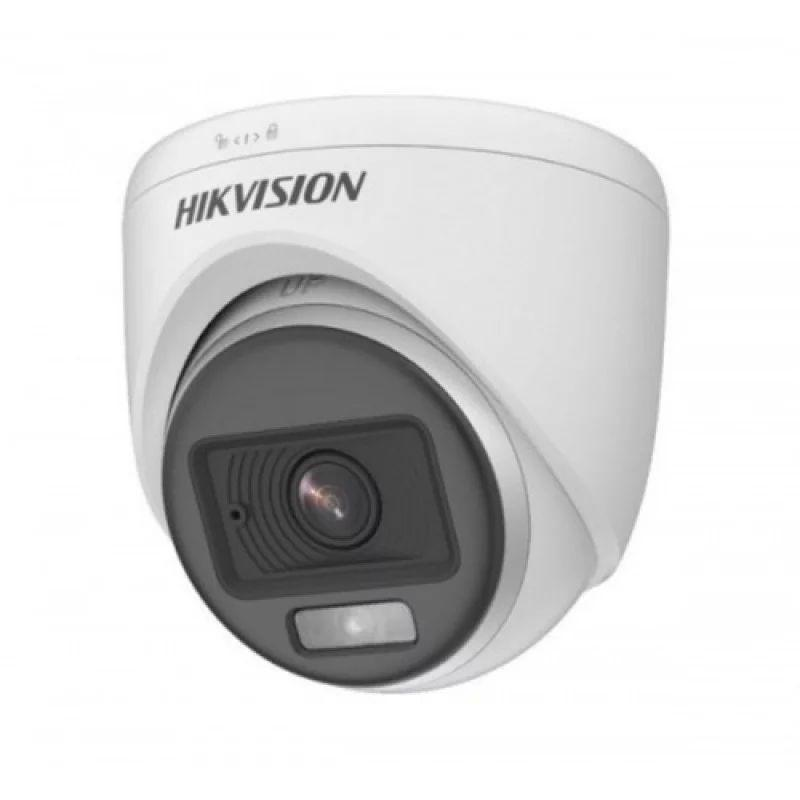CCTV: (123, 96, 669, 693)
